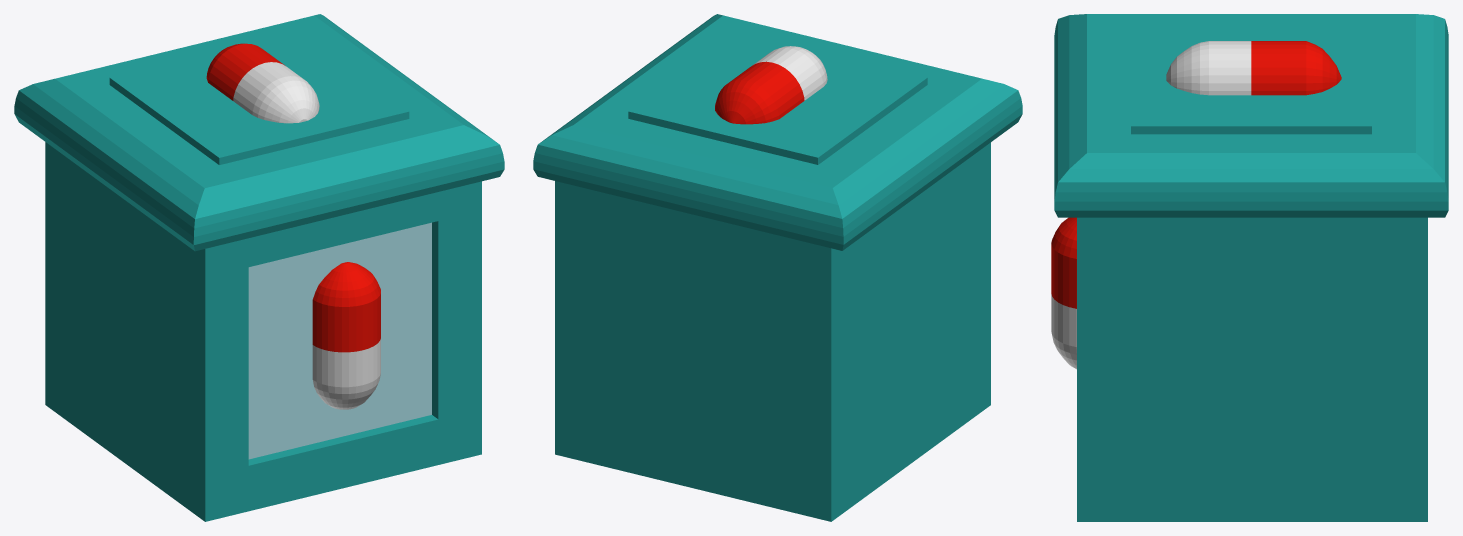
The model's file is PillBox.fbx.
3 renders of one model, left to right at view 1: azimuth 30°, elevation 25°; view 2: azimuth 150°, elevation 25°; view 3: azimuth 270°, elevation 25°, orthographic. The views are drawn at different scales.
Visible parts, largest first — view 1: ilac1.001, kapak; view 2: ilac1.001, kapak; view 3: ilac1.001, kapak.
Boxes of the visible parts, x1=… form: ilac1.001: x1=45, y1=142, x2=481, y2=521; kapak: x1=14, y1=14, x2=504, y2=251; ilac1.001: x1=555, y1=142, x2=990, y2=521; kapak: x1=533, y1=14, x2=1022, y2=250; ilac1.001: x1=1051, y1=217, x2=1427, y2=521; kapak: x1=1054, y1=14, x2=1448, y2=217.
Bounding box in the file's own units: 346 × 390 × 348.
